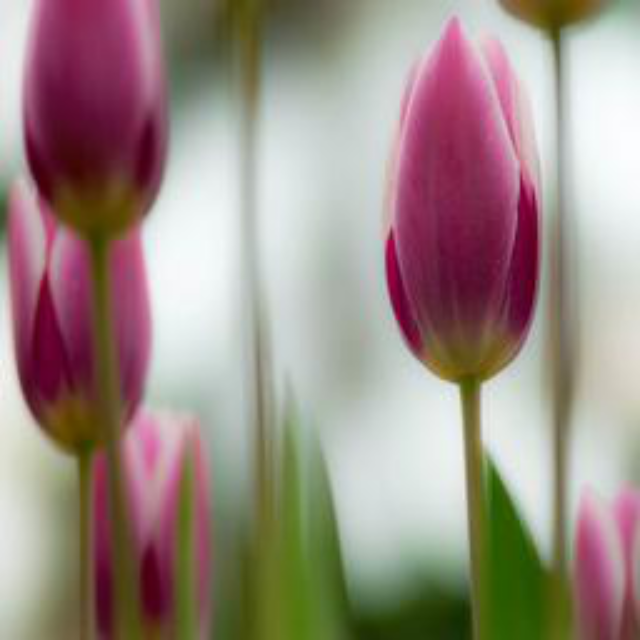tulip: (375, 14, 544, 392), (10, 175, 153, 468), (18, 1, 175, 244), (84, 399, 218, 631)
